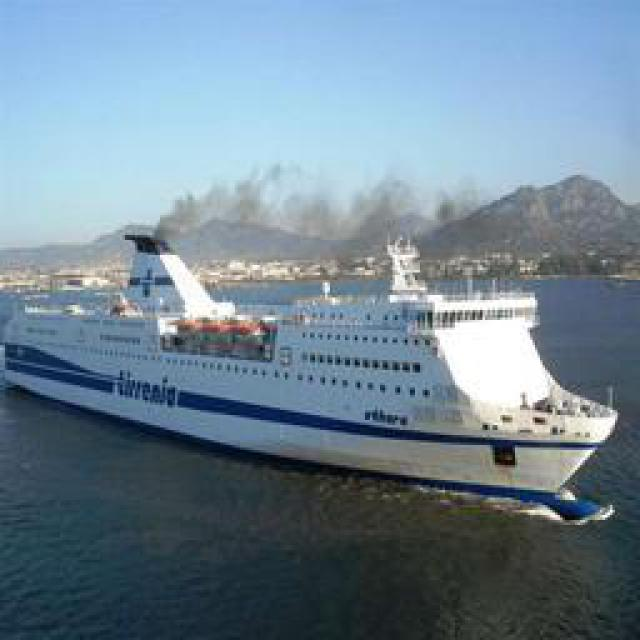Ship: (12, 221, 625, 524)
